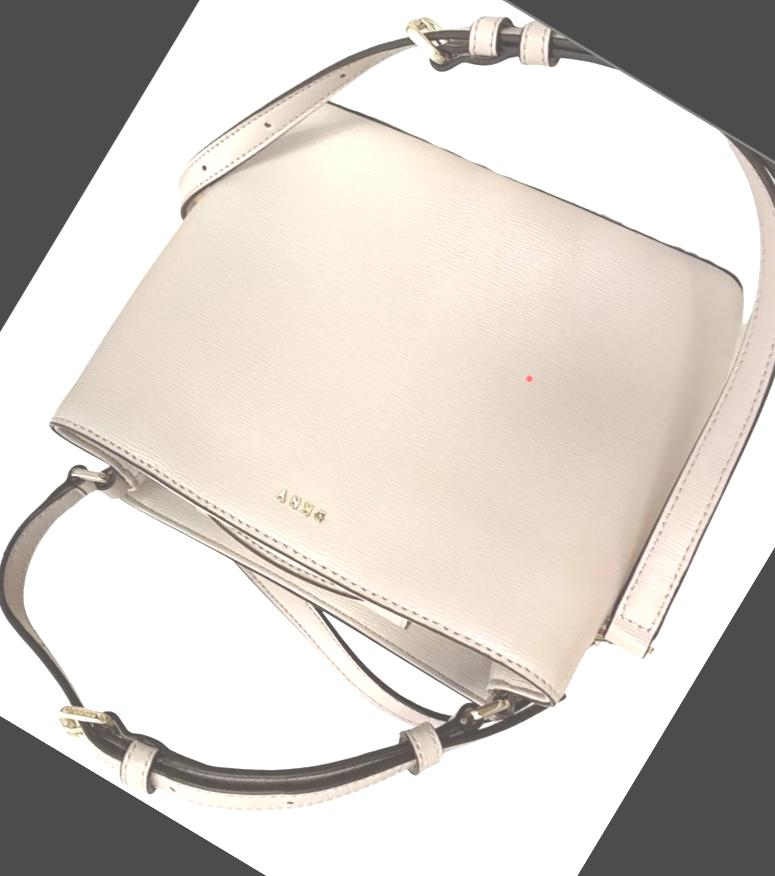DKNY: (273, 486, 326, 524)
